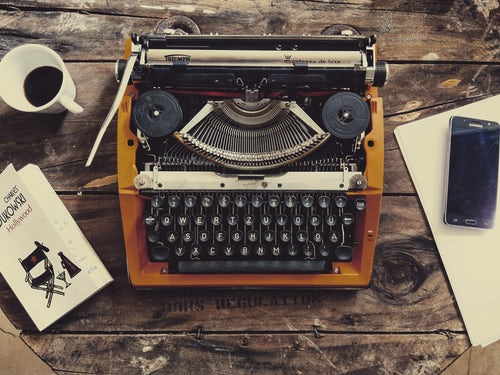phone: (441, 114, 500, 230)
